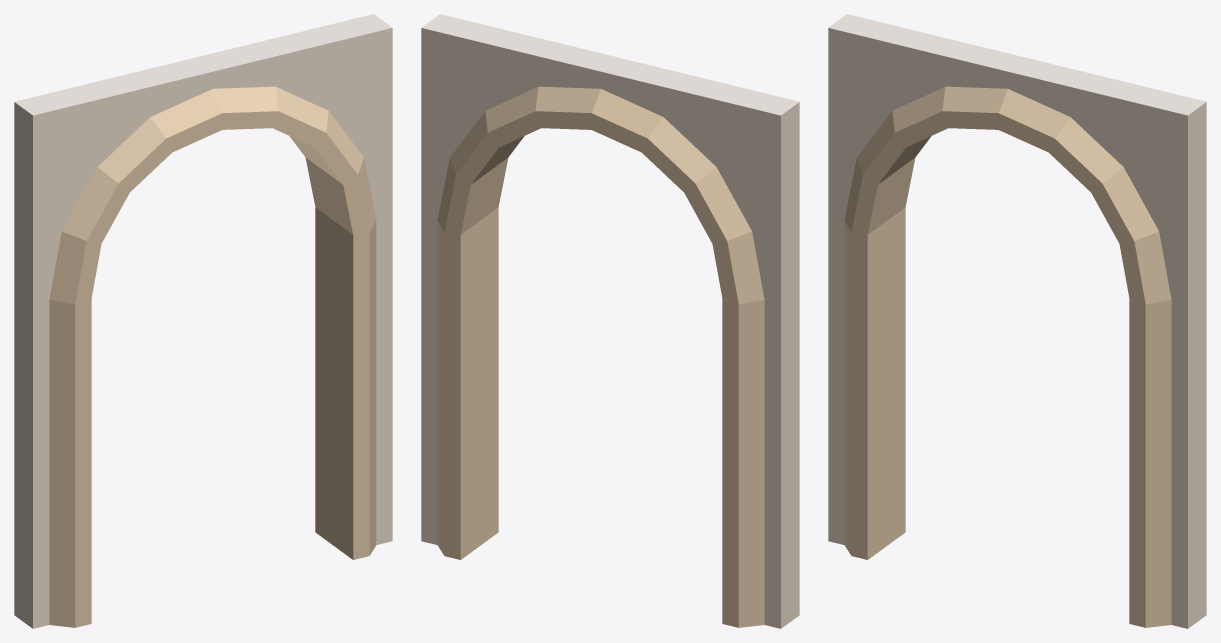
File: temple_Wall_Straight_Doorway_Large.glb
3 views of the same model, side by side, from view 1: azimuth 30°, elevation 25°; view 2: azimuth 150°, elevation 25°; view 3: azimuth 330°, elevation 25° (orthographic).
Visible parts, largest first — view 1: object1; view 2: object1; view 3: object1.
Boxes of the visible parts, bbox=[...] form: object1: bbox=[14, 14, 392, 628]; object1: bbox=[421, 14, 799, 628]; object1: bbox=[828, 14, 1206, 628].
Bounding box in the file's own units: 2.2 × 3 × 0.4.
